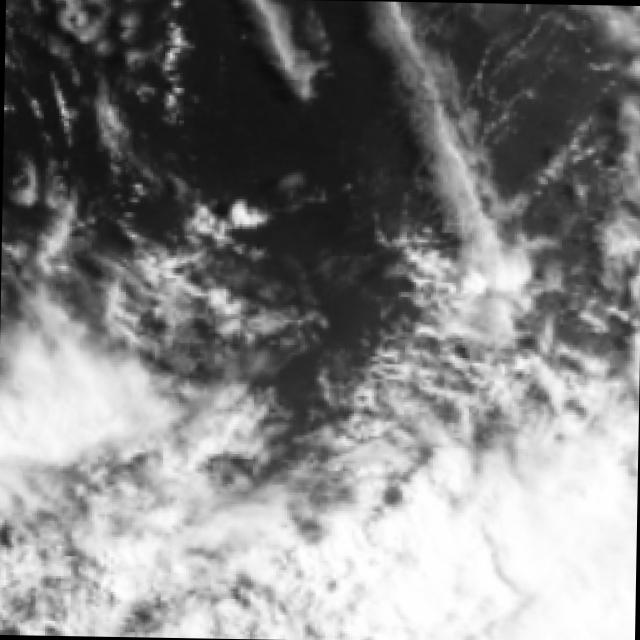CB: (406, 488, 625, 640)
